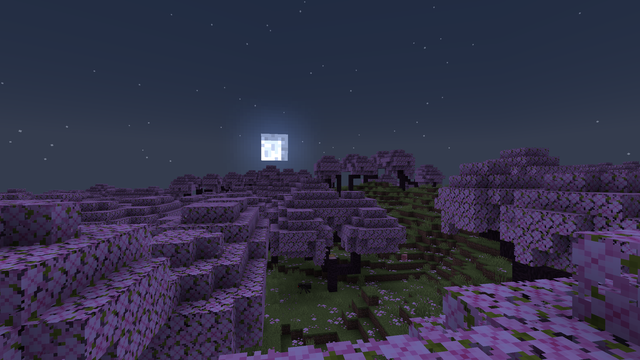araignees: (297, 280, 309, 292)
cochons: (401, 253, 408, 260)
